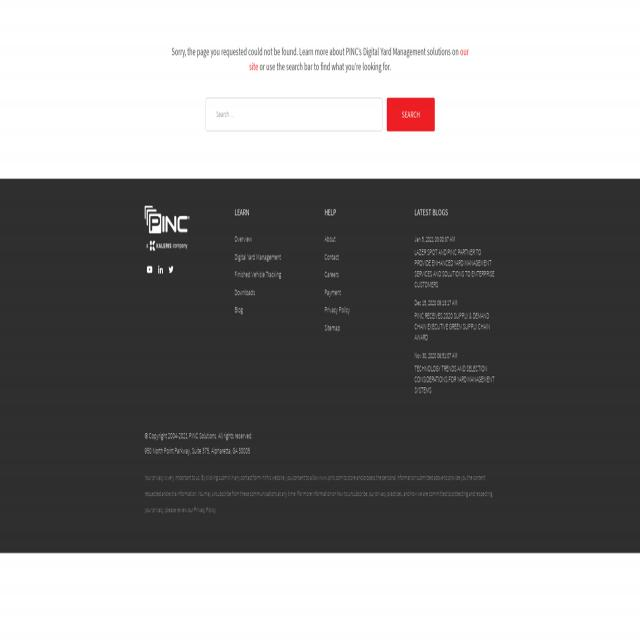button: (144, 206, 190, 250), (386, 98, 434, 132)
field: (205, 98, 382, 131)
